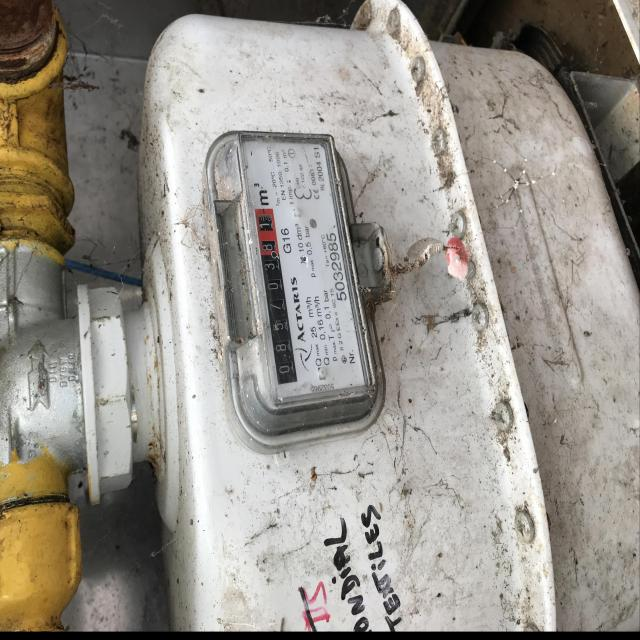gaz_meter: (242, 137, 371, 403)
indication: (253, 211, 298, 384)
